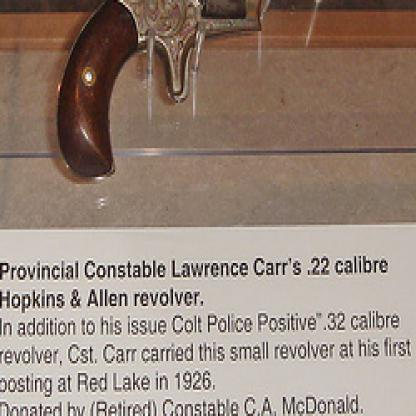gun: (38, 0, 388, 196)
